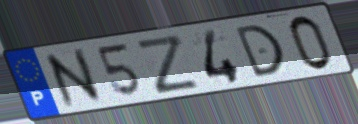0: (289, 13, 335, 72)
4: (202, 27, 242, 85)
5: (92, 43, 145, 99)
D: (232, 22, 289, 80)
N: (40, 46, 108, 112)
Z: (133, 32, 203, 97)
